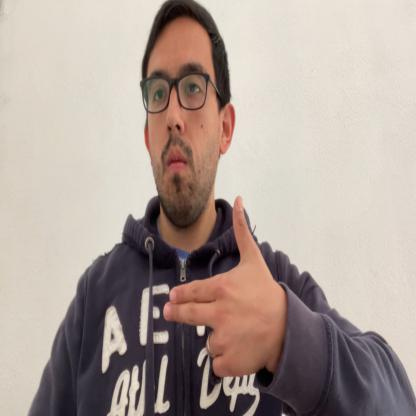H: (163, 195, 276, 380)
